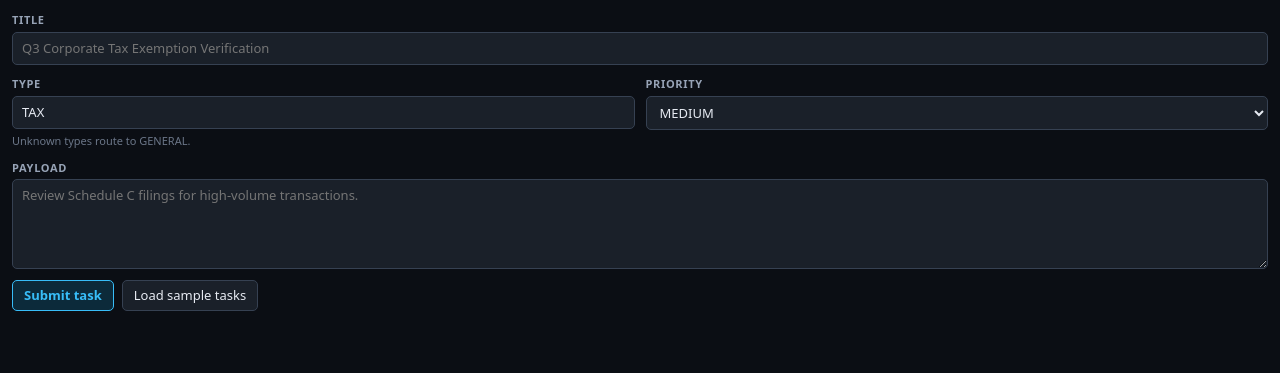
TaskForm - per-field API errors › SHOWS a banner for an error no field can explain (a 503 or network drop)
Step 1. Type "Quarterly review" into the field labelled "Title" → (640, 48), box [12,32,1268,65]
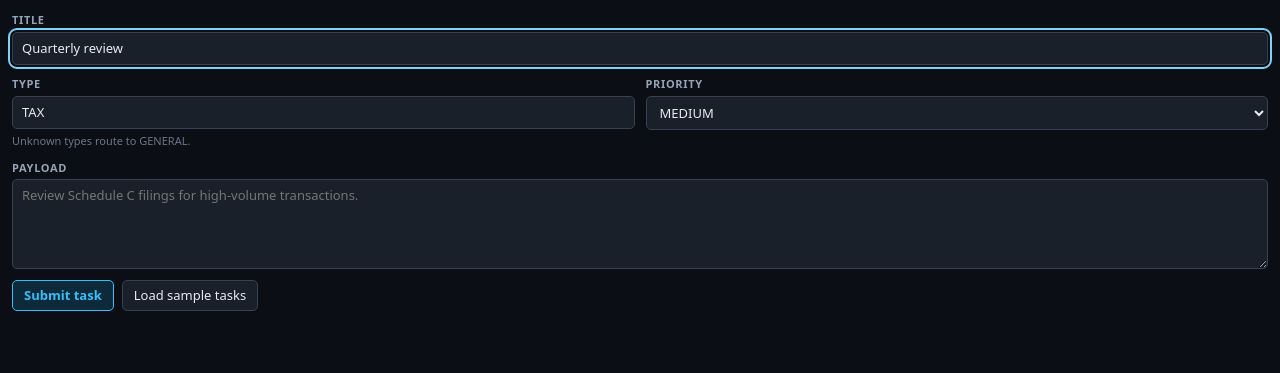
Step 2. Type "Check the ledger." into the text box labelled "Payload" → (640, 224), box [12,179,1268,269]
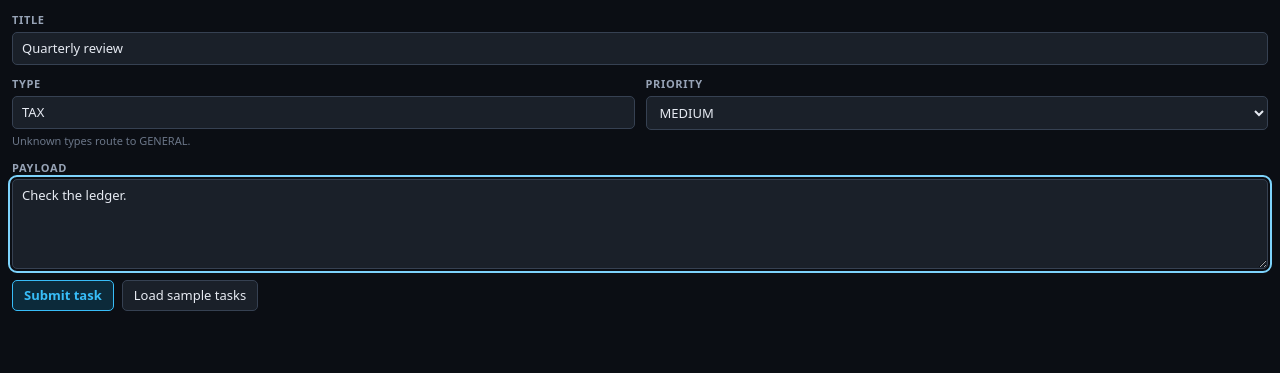
Step 3. Click the button "Submit task" → click(63, 295), box [12,280,114,311]
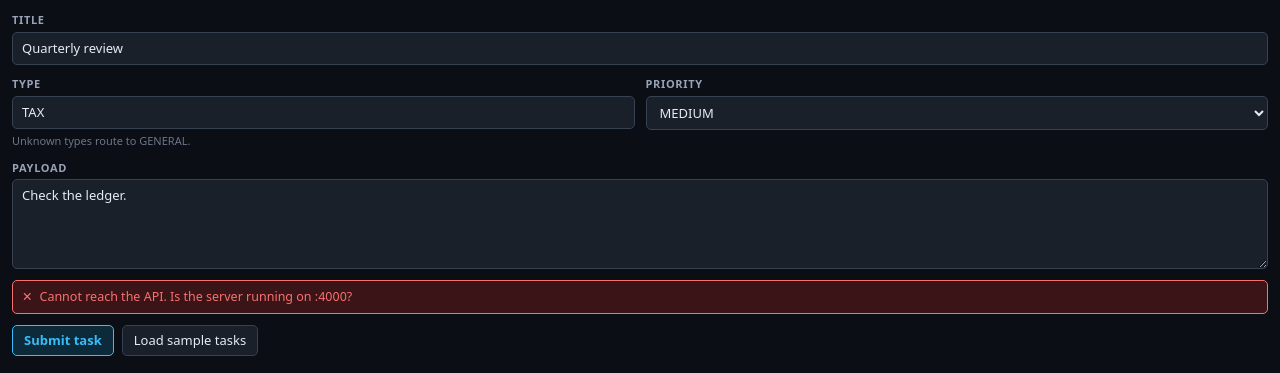
Expected: the message shows "Cannot reach the API", [40,288,352,305]
